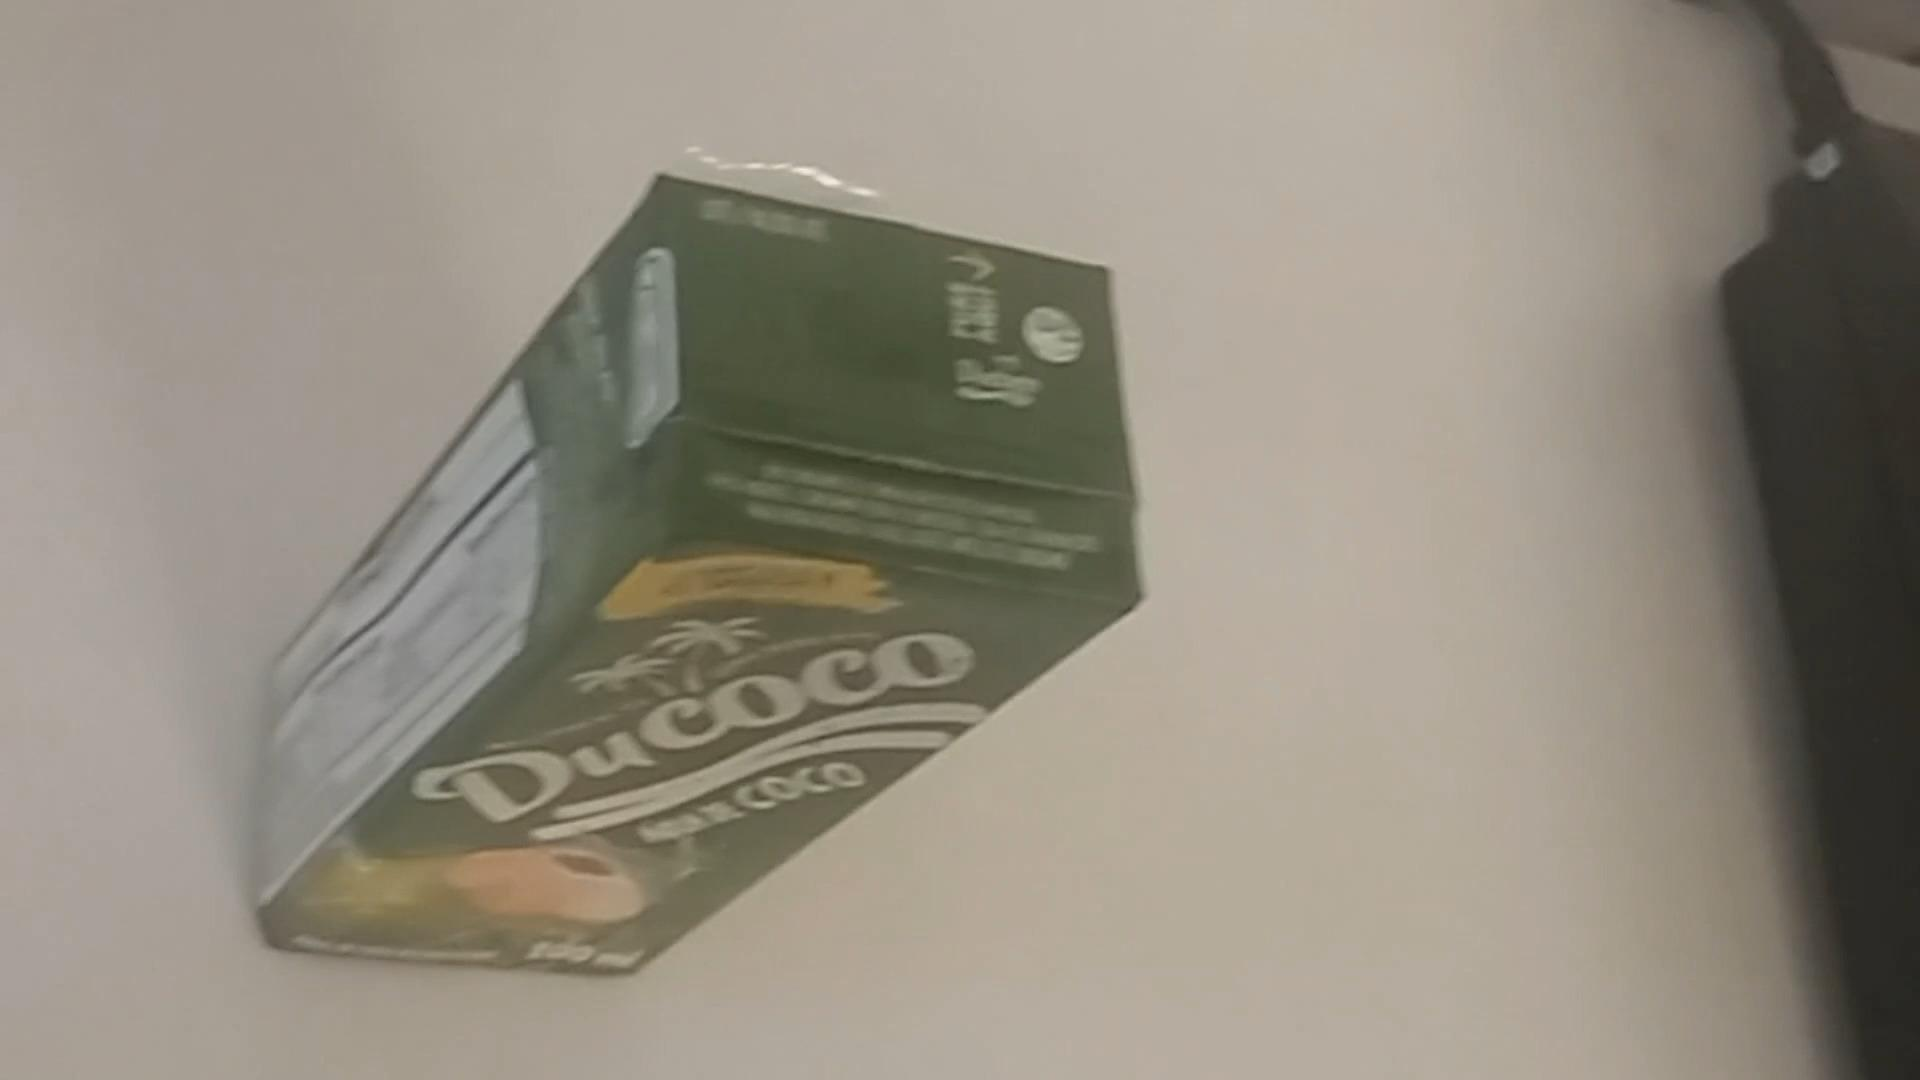coco: (255, 171, 1145, 984)
